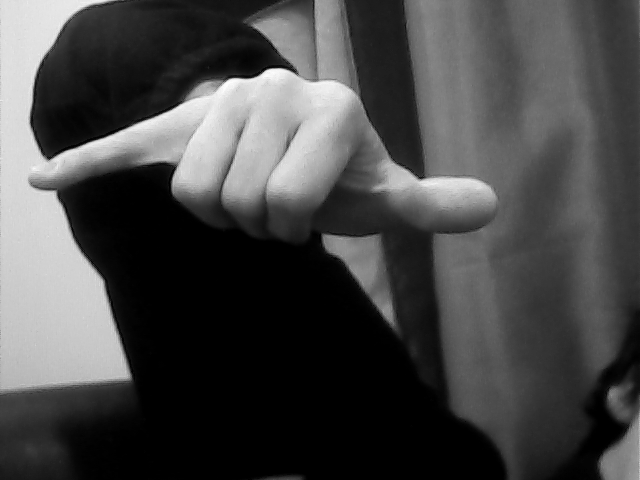aloha: (23, 65, 503, 252)
